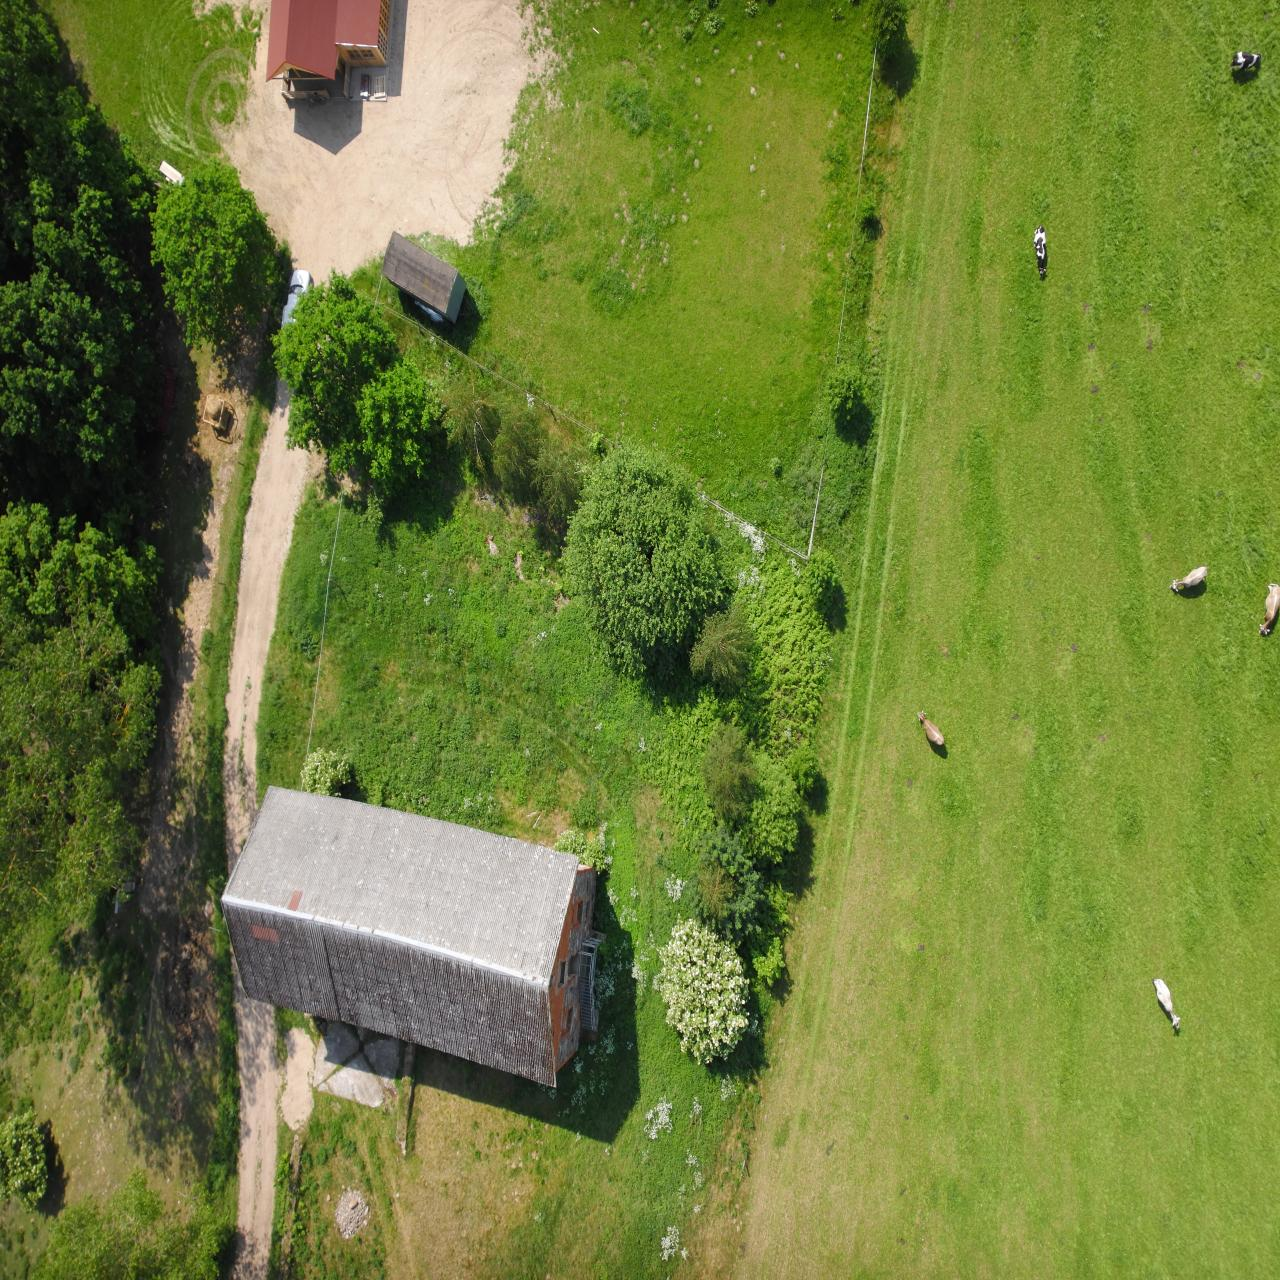cow: (100, 251, 125, 301), (335, 535, 363, 571), (73, 688, 110, 715), (19, 1207, 49, 1228), (233, 1003, 246, 1053)
